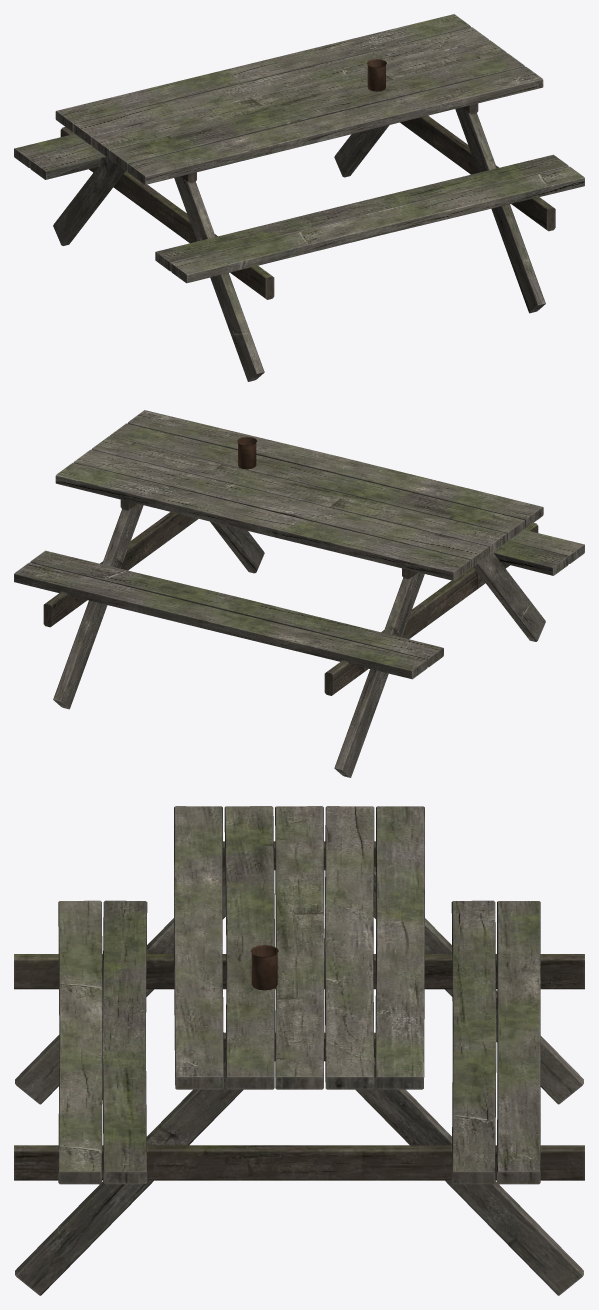
The model's file is picnic_table.glb.
3 renders of one model, top to bottom at view 1: azimuth 30°, elevation 25°; view 2: azimuth 150°, elevation 25°; view 3: azimuth 270°, elevation 25°, orthographic. The views are drawn at different scales.
Visible parts, largest first — view 1: picnic_table; view 2: picnic_table; view 3: picnic_table.
Part boxes in pixels (bbox=[...]): picnic_table: bbox=[14, 14, 584, 381]; picnic_table: bbox=[14, 410, 584, 777]; picnic_table: bbox=[14, 806, 584, 1295].
Size of the model in its own units: 1.84 by 0.9233 by 1.64.
1 material, 1 textured.
